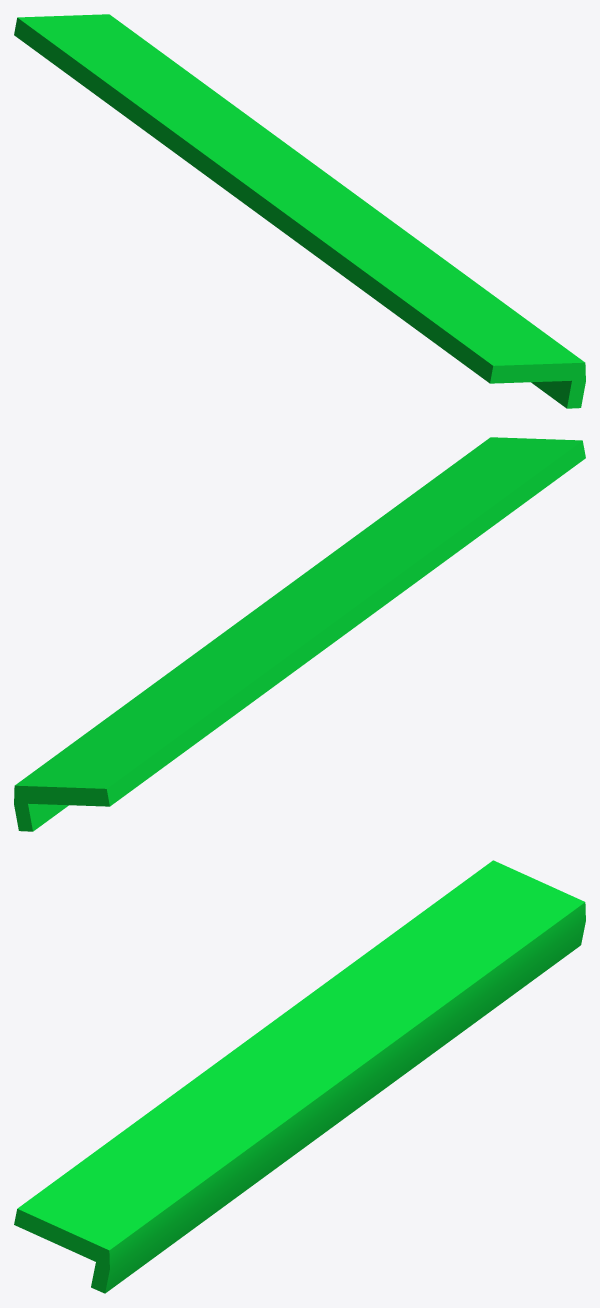
The model's file is Edge_Metal_Front.fbx.
The picture shows the model from 3 angles, top to bottom: view 1: azimuth 30°, elevation 25°; view 2: azimuth 150°, elevation 25°; view 3: azimuth 330°, elevation 25°; orthographic projection.
Visible parts, largest first — view 1: Edge_Metal_Front; view 2: Edge_Metal_Front; view 3: Edge_Metal_Front.
Boxes of the visible parts, x1,y1,x2,y2 form: Edge_Metal_Front: (14, 14, 585, 408); Edge_Metal_Front: (14, 437, 585, 831); Edge_Metal_Front: (14, 860, 585, 1293).
Size of the model in its own units: 6.61 by 4.19 by 56.82.
